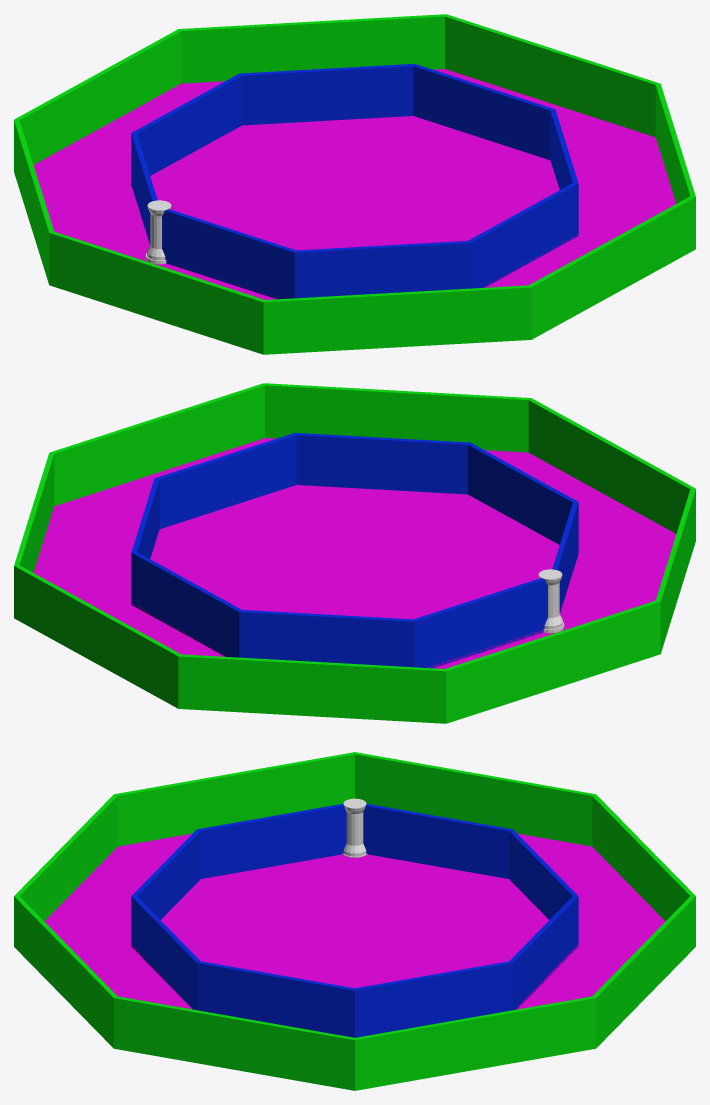
File: Arena.fbx
The picture shows the model from 3 angles, top to bottom: view 1: azimuth 30°, elevation 25°; view 2: azimuth 150°, elevation 25°; view 3: azimuth 270°, elevation 25°; orthographic projection. The views are drawn at different scales.
Visible parts, largest first — view 1: Cylinder.001, Cylinder.002, Cylinder.004, Cylinder.003, Cylinder; view 2: Cylinder.001, Cylinder.002, Cylinder.004, Cylinder.003, Cylinder; view 3: Cylinder.001, Cylinder.002, Cylinder.004, Cylinder.003, Cylinder.
Boxes of the visible parts, box(x1,y1,x2,y2) form: Cylinder.001: box(14, 14, 695, 354); Cylinder.002: box(131, 63, 578, 299); Cylinder.004: box(131, 116, 577, 298); Cylinder.003: box(33, 69, 676, 299); Cylinder: box(145, 200, 171, 264); Cylinder.001: box(14, 383, 695, 723); Cylinder.002: box(131, 432, 578, 668); Cylinder.004: box(131, 485, 576, 667); Cylinder.003: box(33, 438, 676, 668); Cylinder: box(538, 569, 564, 633); Cylinder.001: box(14, 752, 695, 1090); Cylinder.002: box(131, 804, 578, 1037); Cylinder.004: box(131, 854, 578, 1009); Cylinder.003: box(44, 833, 665, 1009); Cylinder: box(343, 798, 366, 857).
Bounding box in the file's own units: 12200 × 1010 × 12200.
